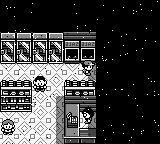leer: (66, 112, 78, 125)
main: (81, 60, 95, 76)
no-caminable: (1, 0, 160, 143), (0, 32, 64, 64), (1, 80, 31, 111), (65, 78, 96, 105), (64, 41, 95, 64), (64, 32, 95, 40), (80, 128, 96, 143), (64, 129, 79, 143), (65, 103, 79, 113)
npc: (1, 119, 16, 135), (33, 76, 47, 92), (81, 107, 94, 124)
